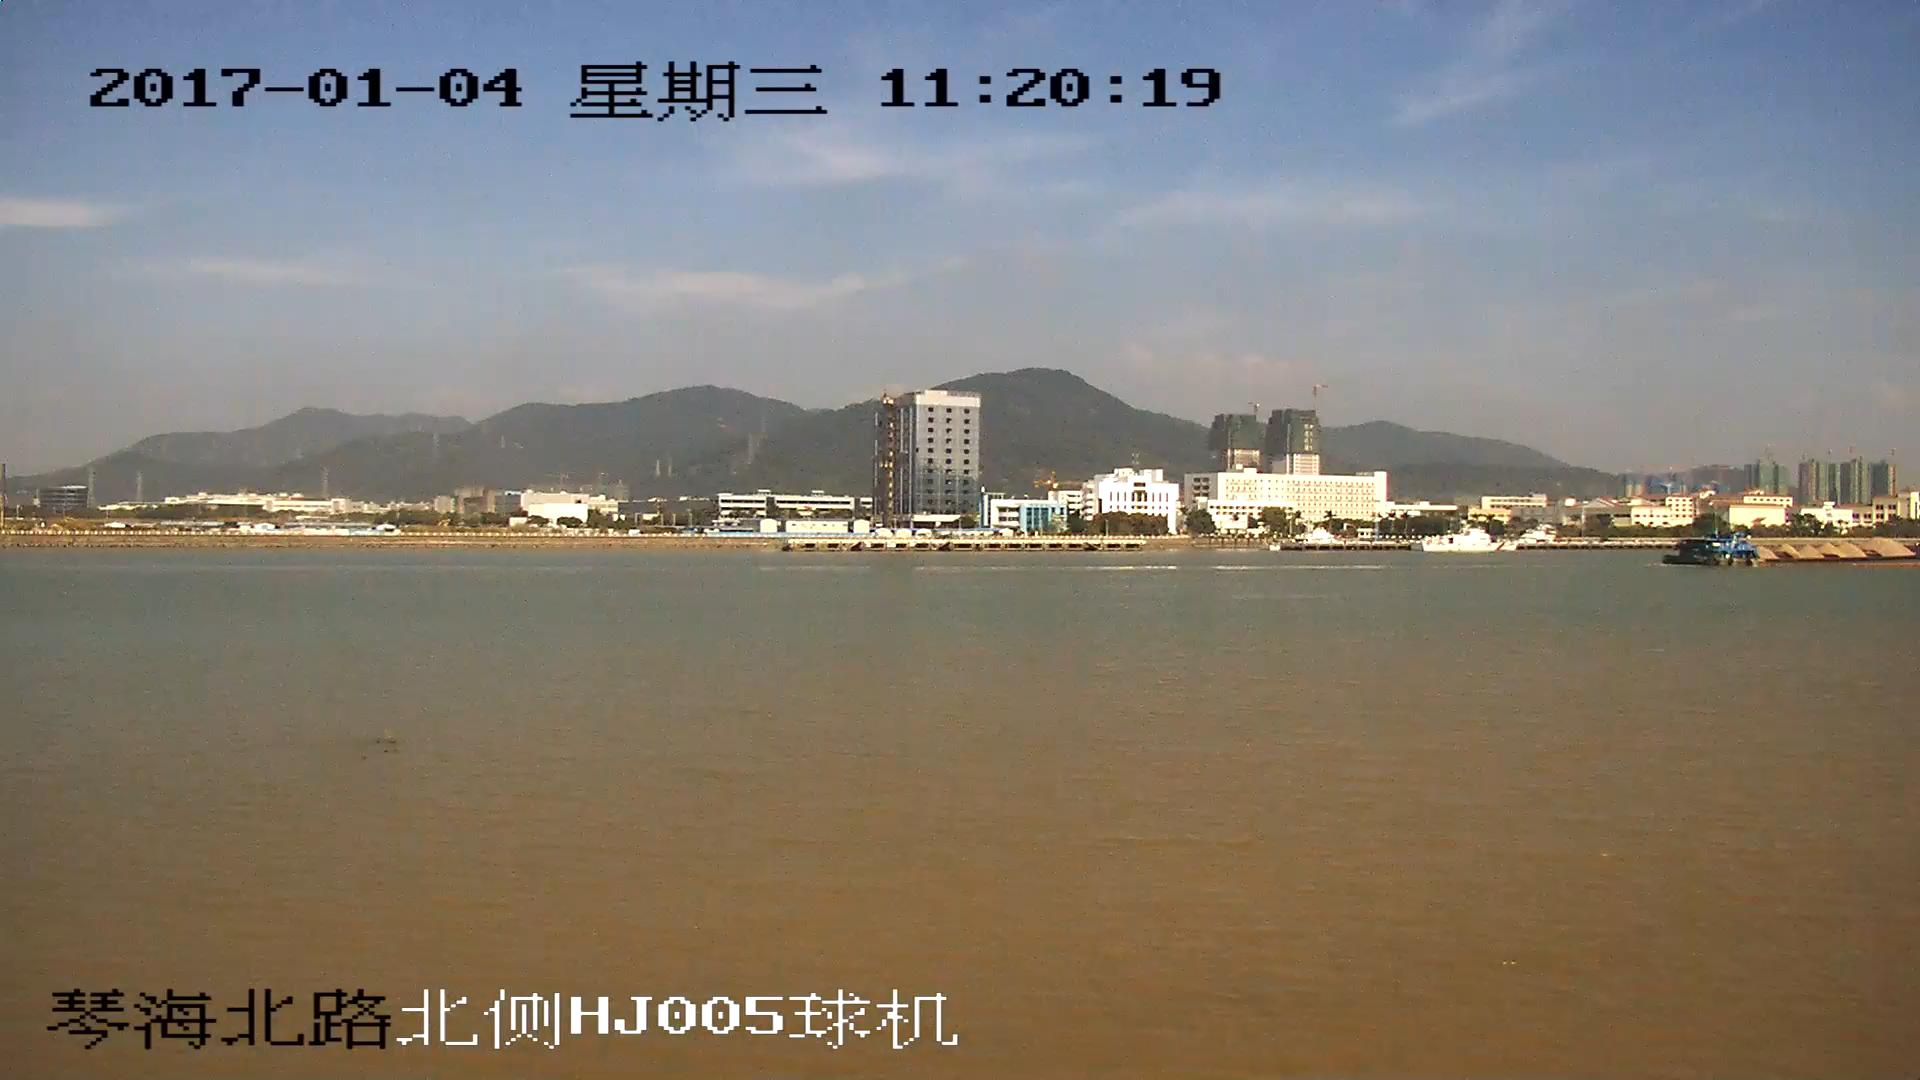ore carrier: (1666, 537, 1920, 571)
